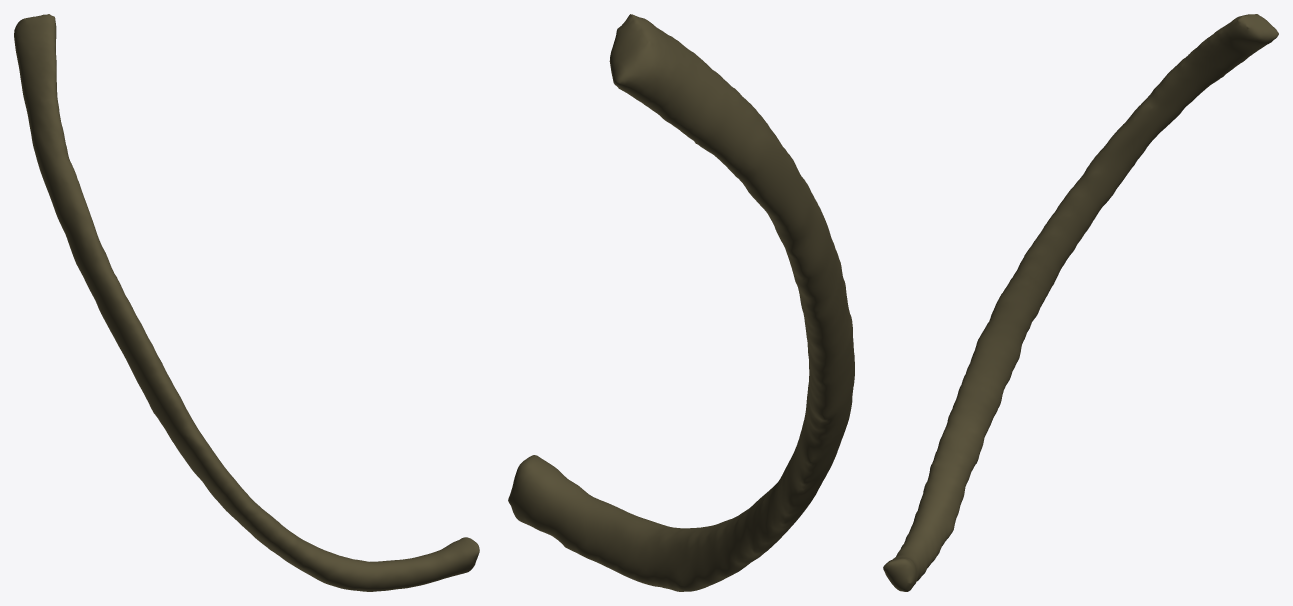
The model's file is segmentations_rib_left_7.obj.
3 renders of one model, left to right at view 1: azimuth 30°, elevation 25°; view 2: azimuth 150°, elevation 25°; view 3: azimuth 270°, elevation 25°, orthographic. The views are drawn at different scales.
Visible parts, largest first — view 1: grp1; view 2: grp1; view 3: grp1.
Part boxes in pixels (left/top/right/bottom): grp1: left=14, top=14, right=479, bottom=591; grp1: left=508, top=14, right=854, bottom=591; grp1: left=883, top=14, right=1278, bottom=591.
Bounding box in the file's own units: 68.58 × 110 × 83.72.
